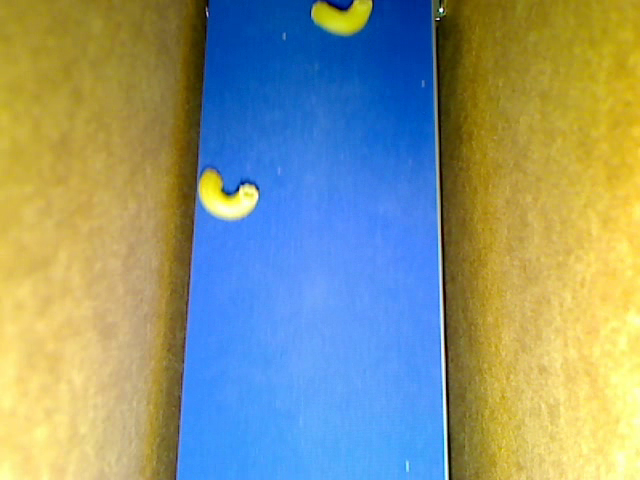elbow: (197, 168, 259, 222), (311, 1, 372, 37)
